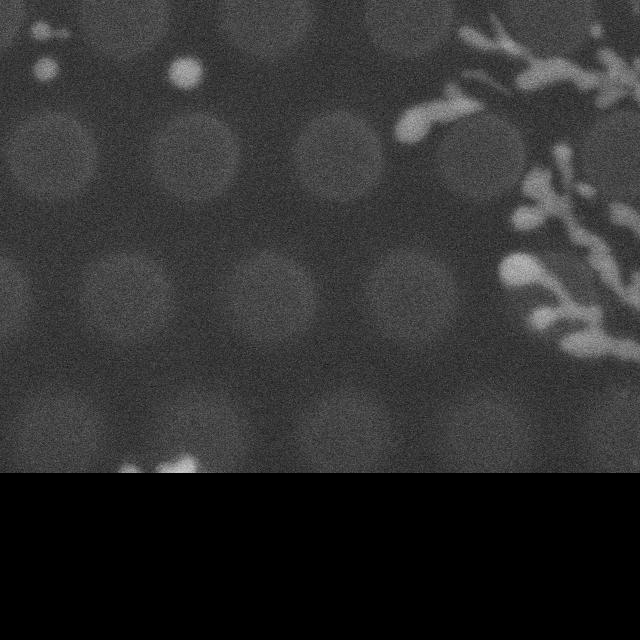Dendrite: (512, 145, 640, 341), (514, 176, 640, 340), (460, 18, 640, 112), (460, 20, 640, 111), (498, 252, 600, 332), (395, 82, 482, 144), (168, 56, 203, 90), (464, 70, 510, 95), (153, 454, 210, 473), (30, 20, 69, 41), (33, 55, 60, 83), (604, 0, 640, 16), (479, 90, 481, 91)
